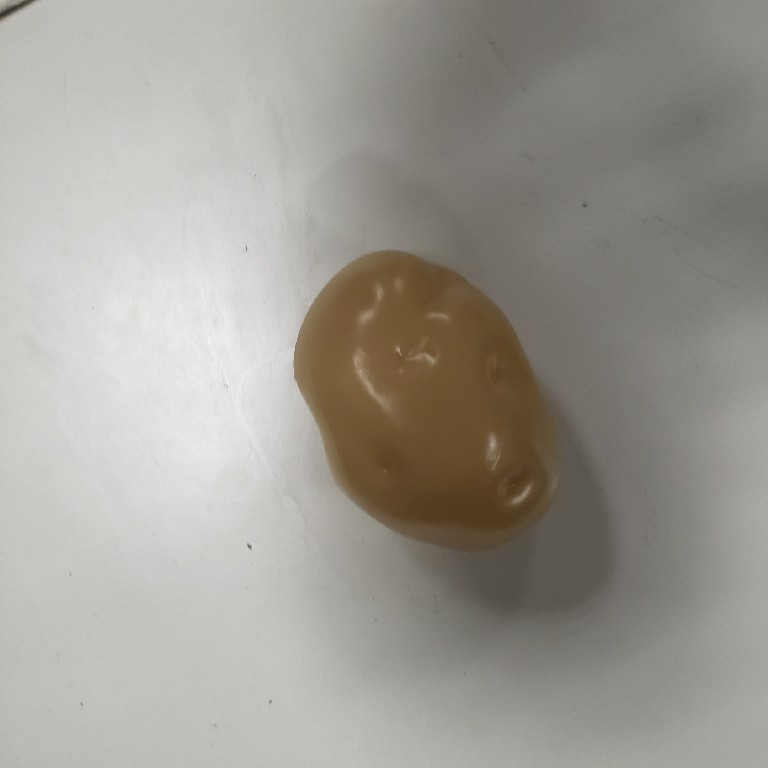fruit_potato: (283, 244, 565, 558)
